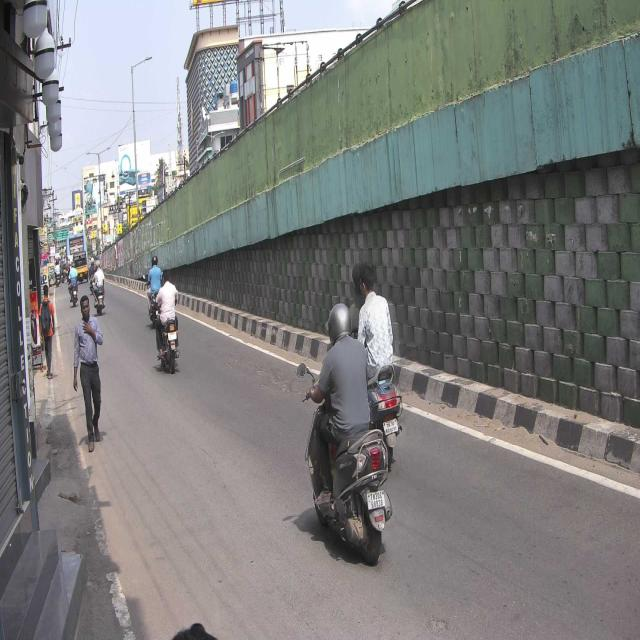single_rider: (296, 299, 395, 574)
